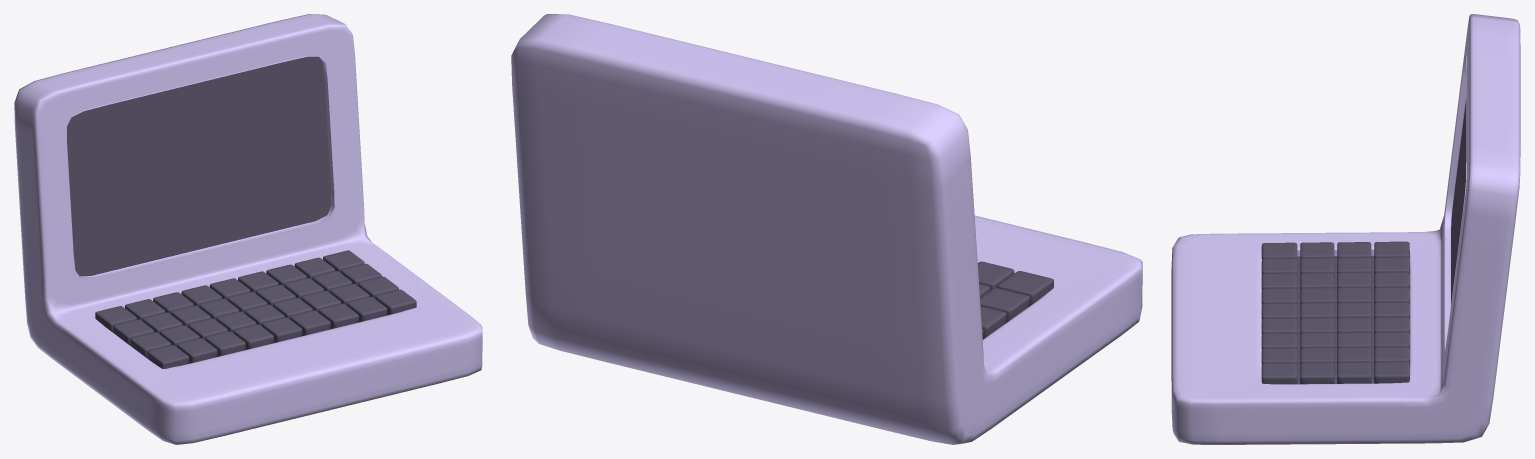
The model's file is laptop.glb.
3 renders of one model, left to right at view 1: azimuth 30°, elevation 25°; view 2: azimuth 150°, elevation 25°; view 3: azimuth 270°, elevation 25°, orthographic. The views are drawn at different scales.
Visible parts, largest first — view 1: laptop; view 2: laptop; view 3: laptop.
Part boxes in pixels (box(x1,y1,x2,y2)): laptop: box(14, 14, 482, 444); laptop: box(511, 14, 1142, 444); laptop: box(1171, 14, 1520, 444).
Size of the model in its own units: 3.21 by 2.43 by 2.81.
